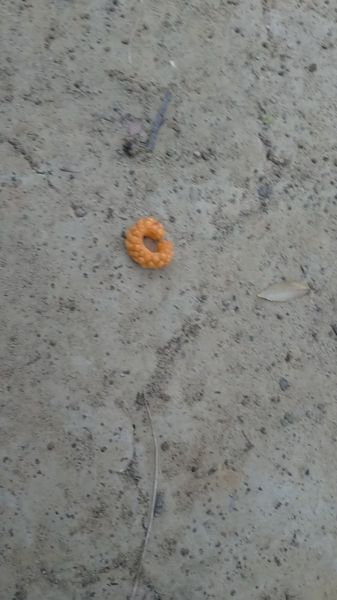eggs: (121, 214, 172, 275)
